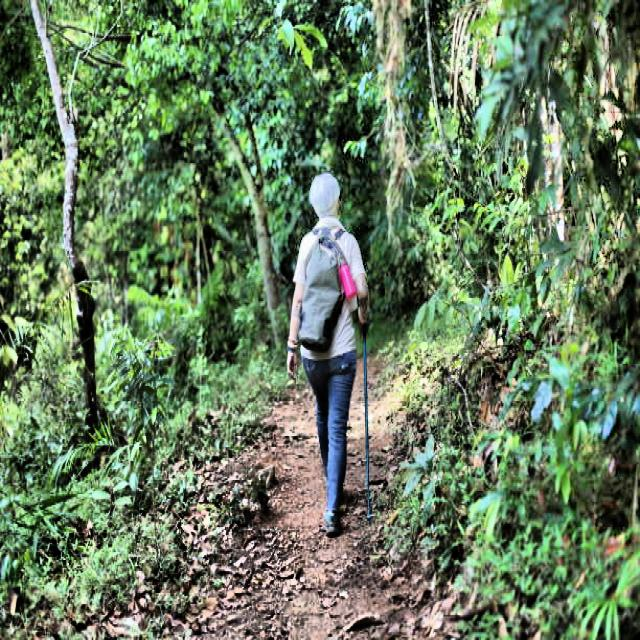Human: (279, 150, 372, 543)
